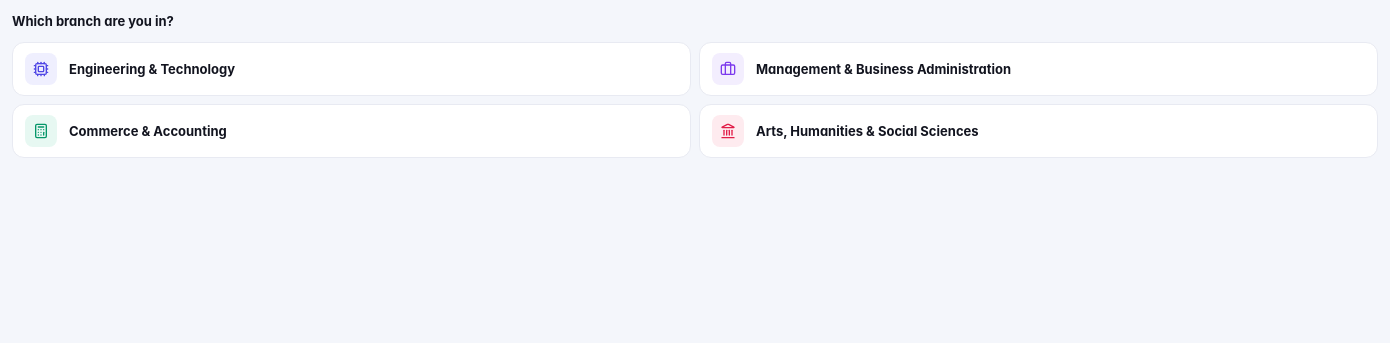
it: choosing a branch across departments › forgets a branch picked in one department when the student moves to another
The width and height of the screenshot is (1390, 343).
Click the radio button labelled "Commerce & Accounting": (41, 131) [12,104,691,158]
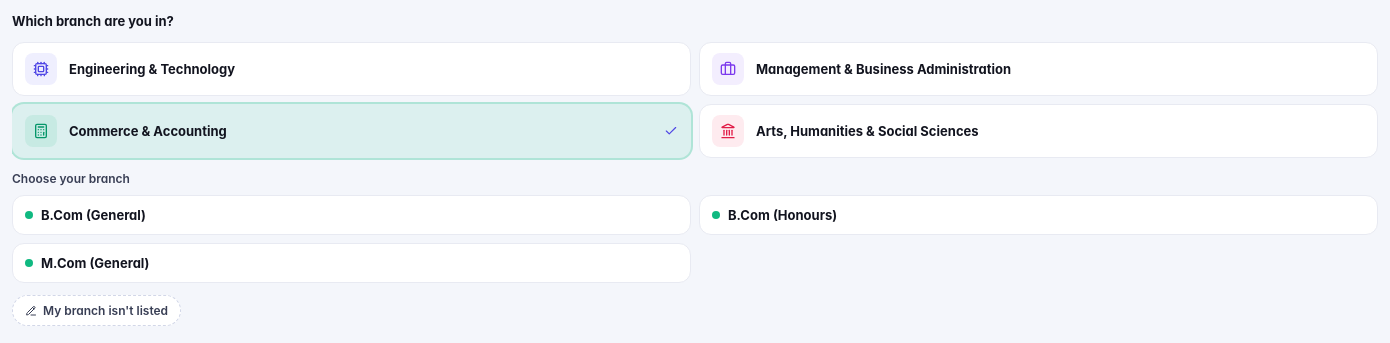
Click the radio button labelled "B.Com (General)": (93, 215) [12,195,691,235]
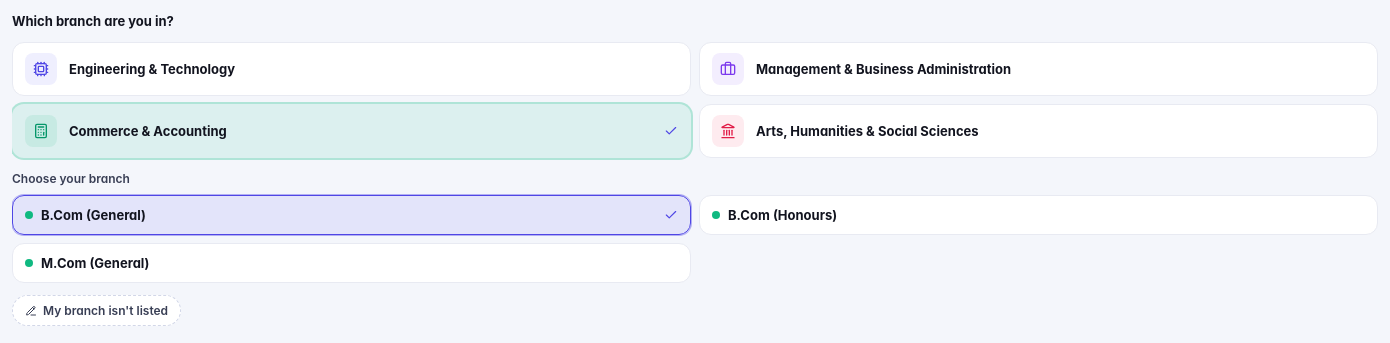
Click the radio button labelled "Management & Business Administration": (728, 69) [699,42,1378,96]
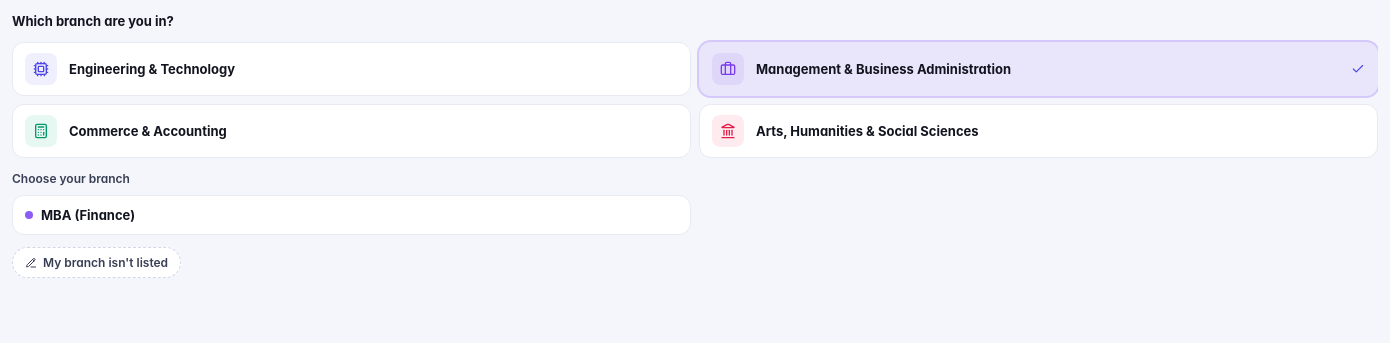
Check: the radio button labelled "B.Com (General)" is gone
